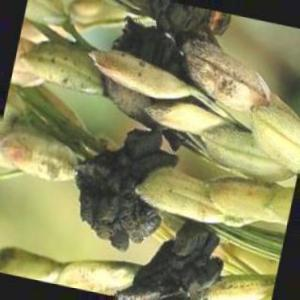Leaf_Scald: (128, 230, 231, 300), (78, 177, 152, 248), (132, 0, 201, 67), (100, 134, 157, 194)
